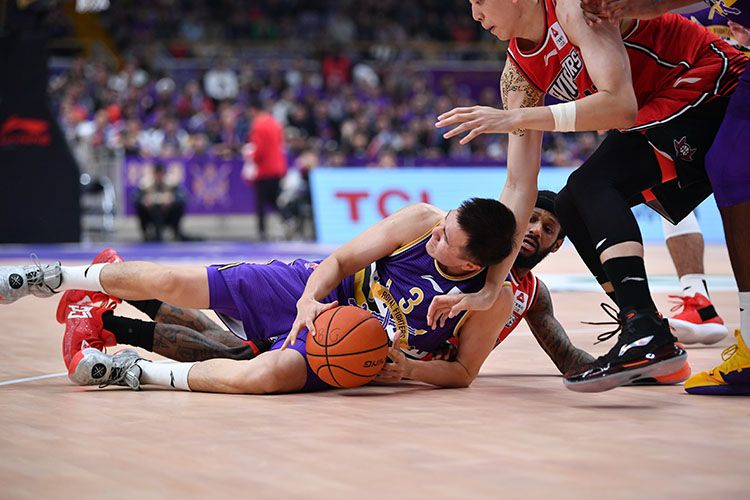fall: (363, 196, 627, 393)
